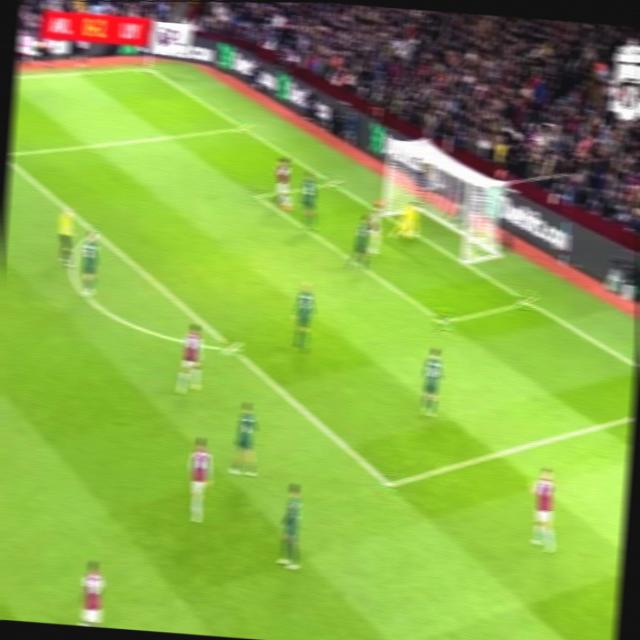bigarea_bottom_inner: (374, 466, 401, 498)
bigarea_top_outter: (233, 118, 252, 134)
bottom_arc_area_intersection: (220, 336, 242, 357)
corner: (134, 60, 157, 75)
smallarea_bottom_inner: (431, 304, 455, 334)
smallarea_bottom_outter: (515, 289, 537, 311)
smallarea_top_inner: (246, 184, 267, 206)
smallarea_top_outter: (322, 172, 342, 191)
top_arc_area_intersection: (84, 222, 102, 241)
